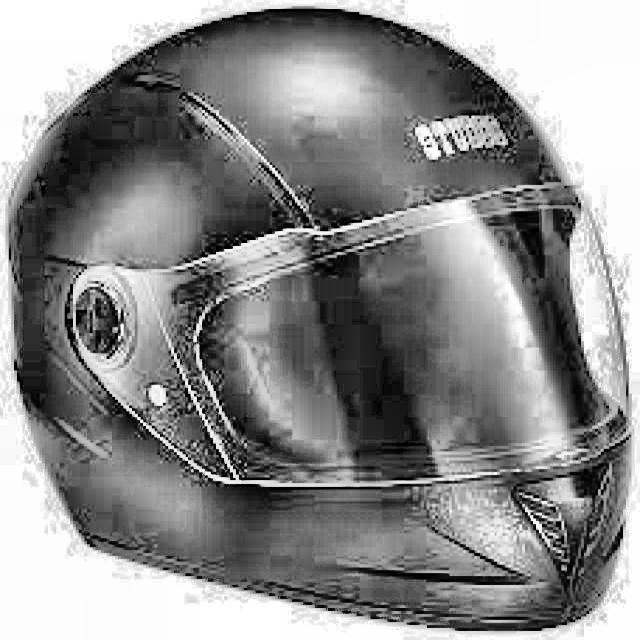Helmet: (10, 4, 640, 640)
